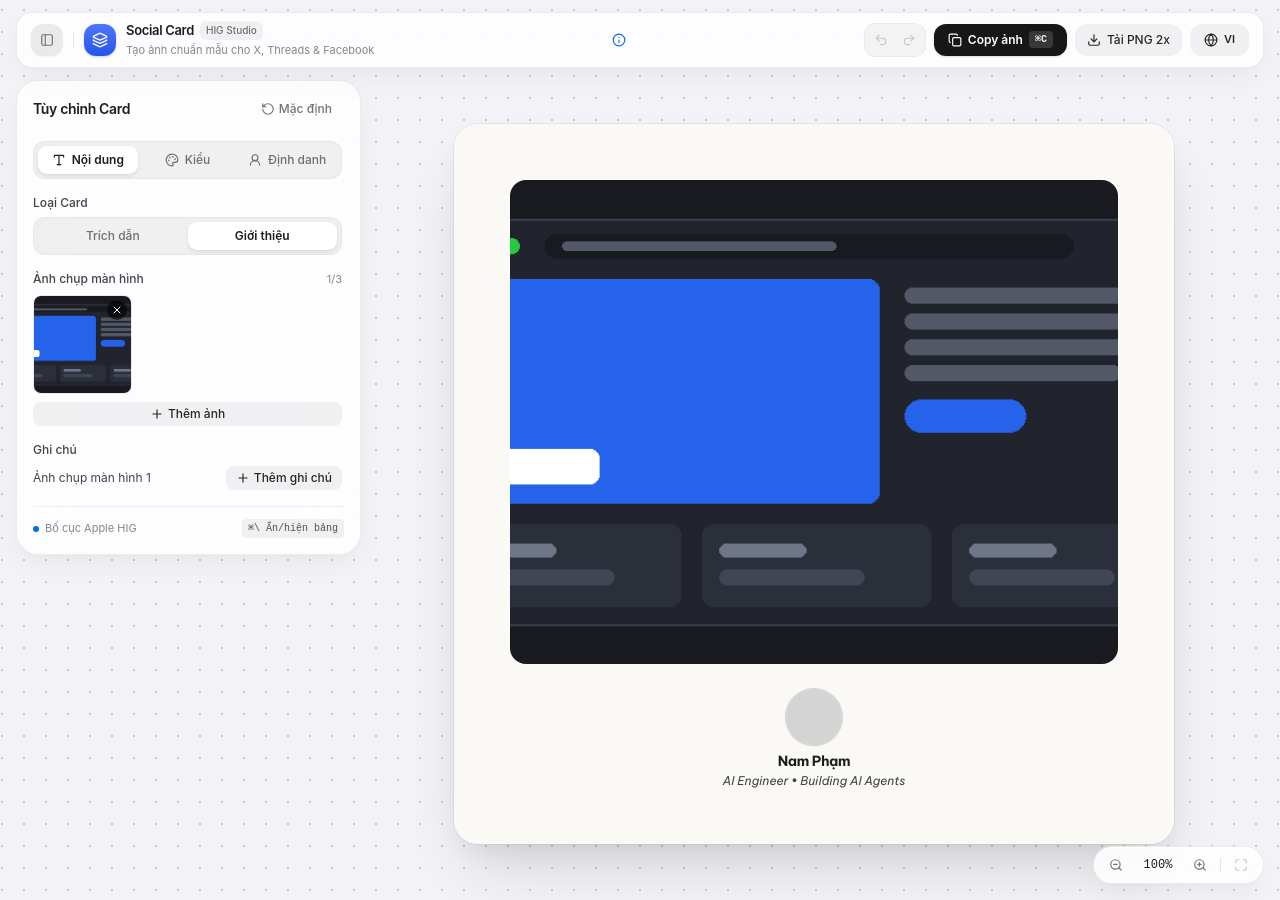
Scenario: App › drives the Zoom HUD readout through the zoom buttons
Expected: the button "100%" is shown, [1134,855,1182,875]
Click the button named "Thu nhỏ xem trước": [1116, 865] box [1102,851,1130,879]
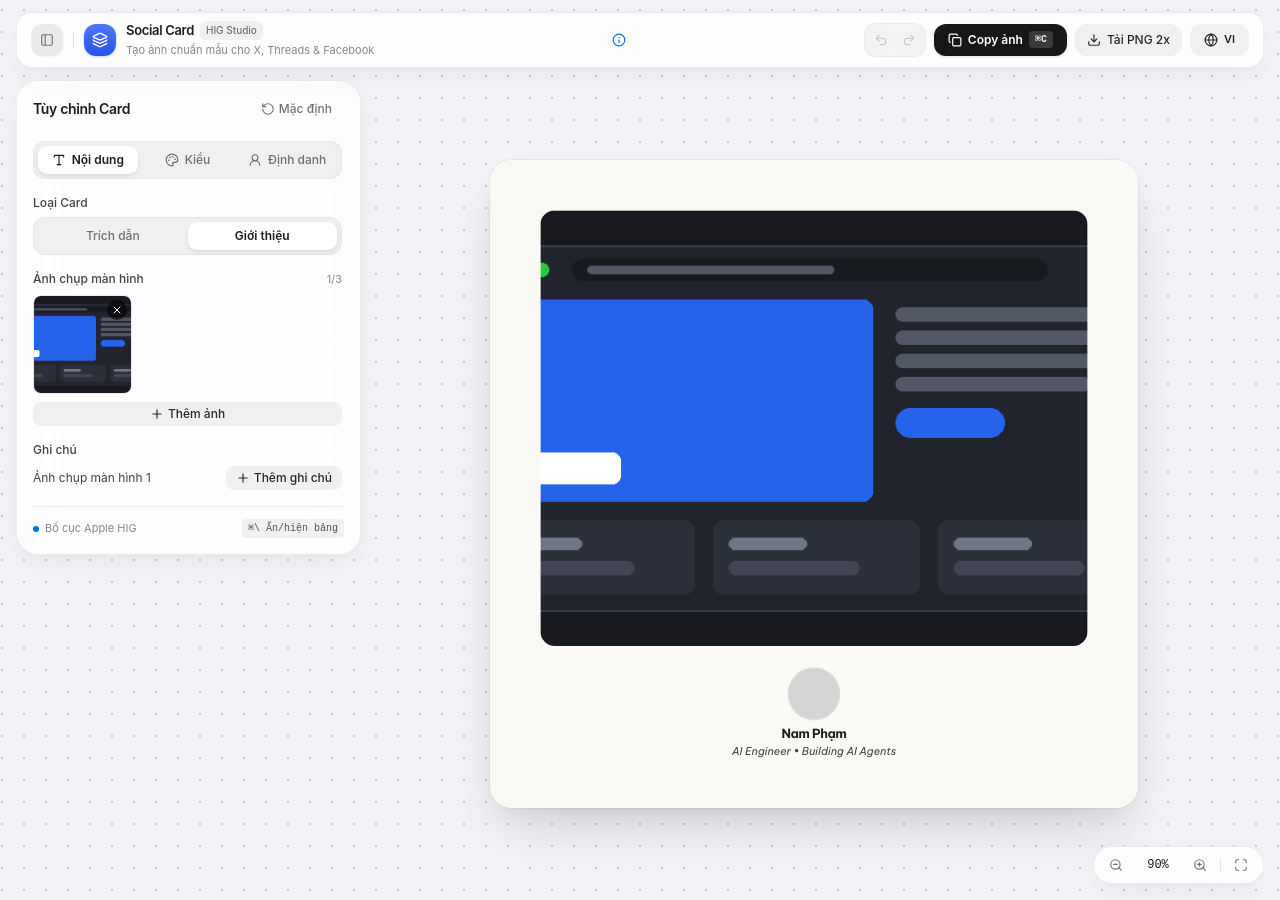
Expected: the button "90%" is shown, [1134,855,1182,875]
Click the button named "Phóng to xem trước": [1200, 865] box [1186,851,1214,879]
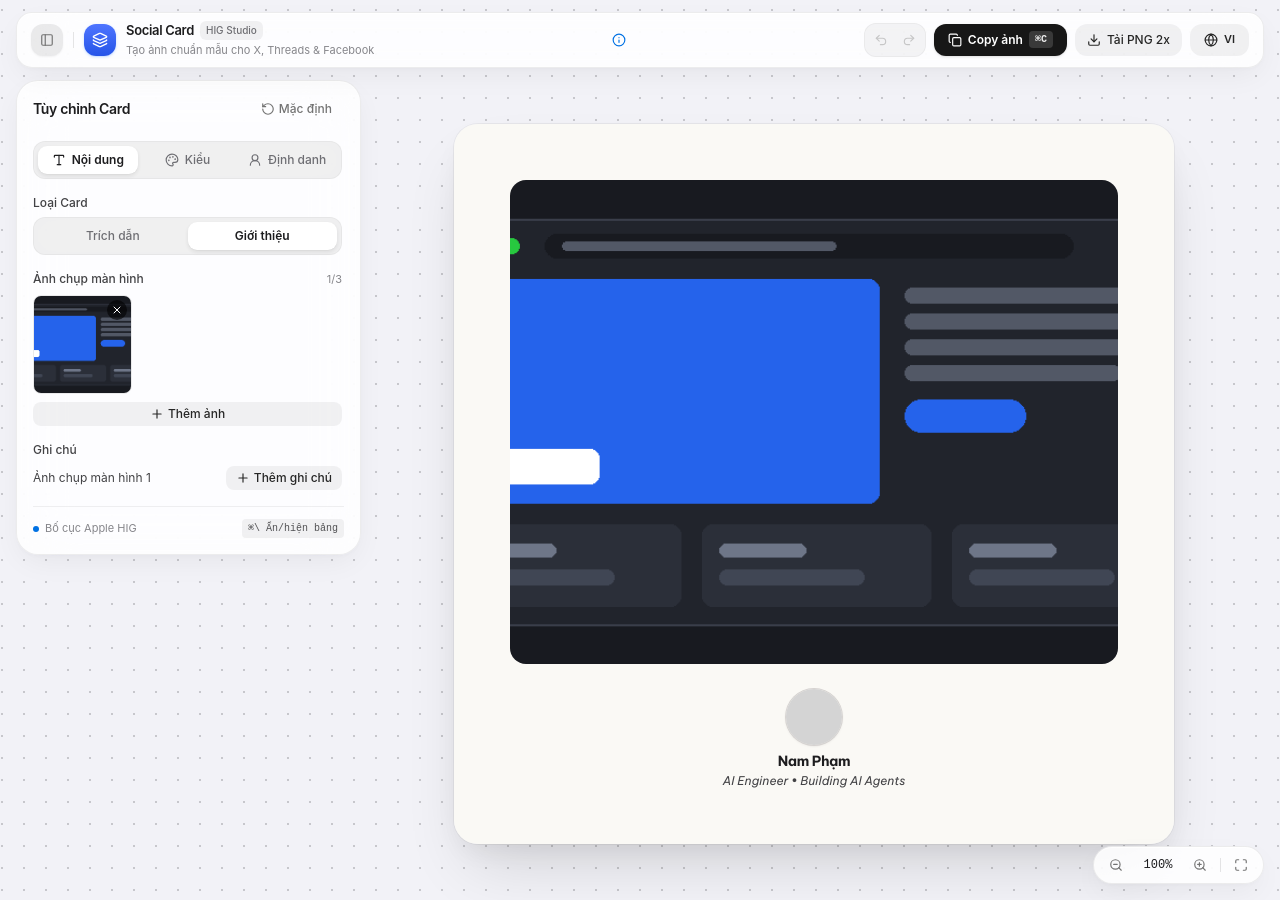
Click the button named "Phóng to xem trước": [1200, 865] box [1186,851,1214,879]
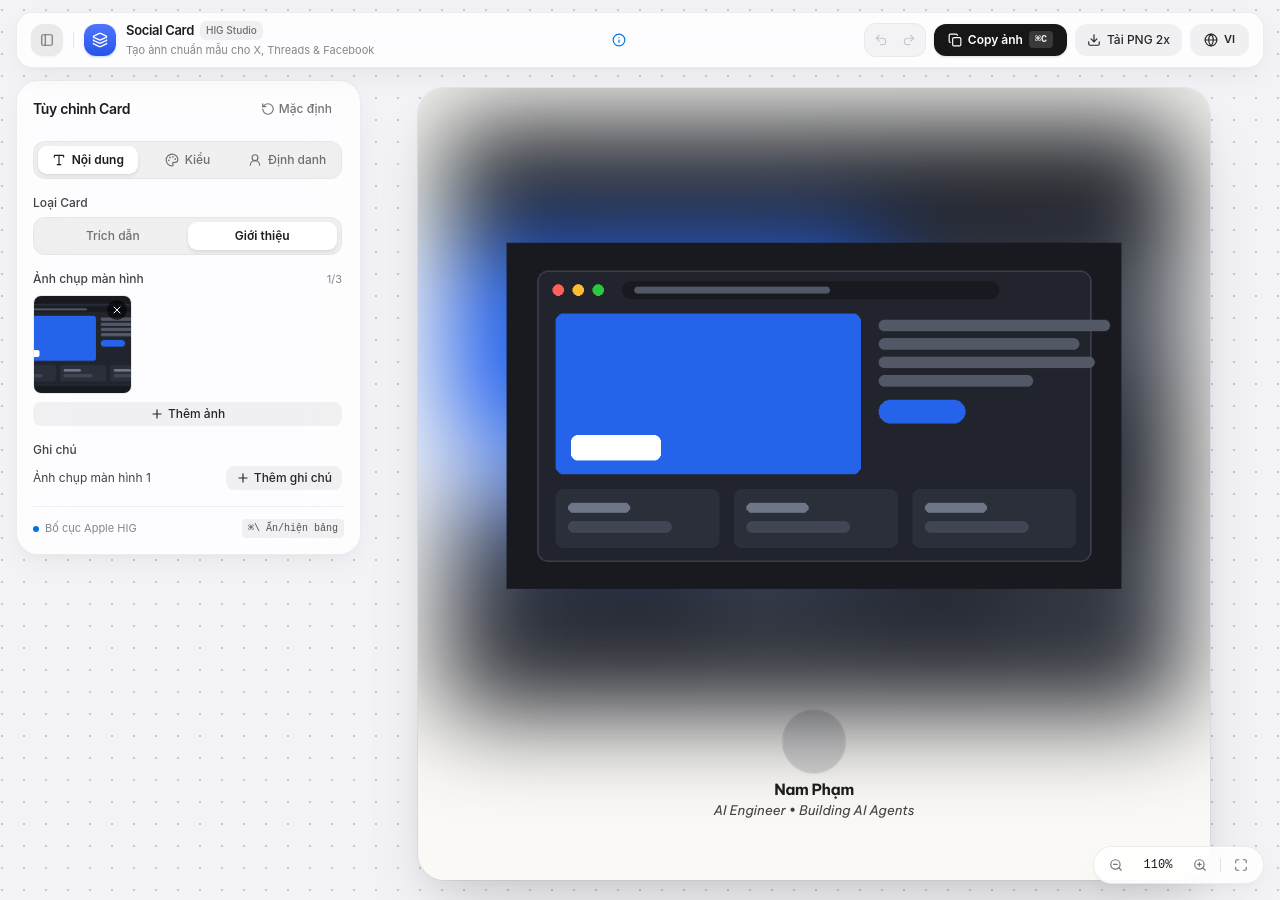
Expected: the button named "Vừa khung xem trước" is shown, [1227,851,1255,879]
Expected: the button "110%" is shown, [1134,855,1182,875]
